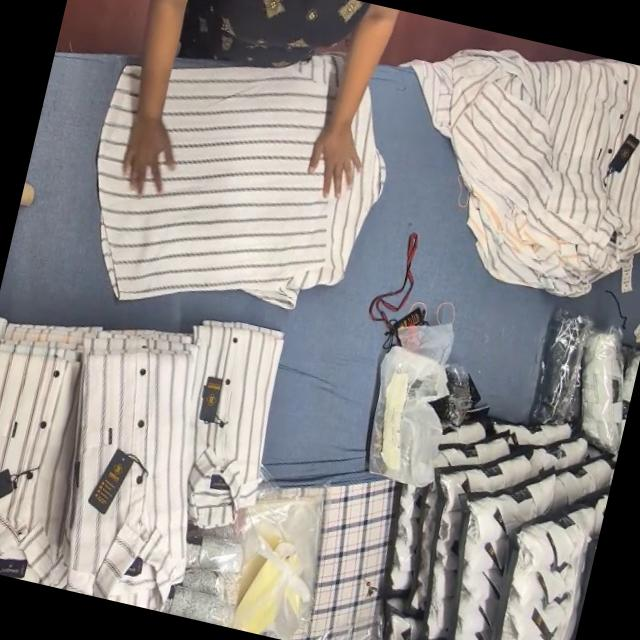new-garment: (96, 55, 383, 306)
